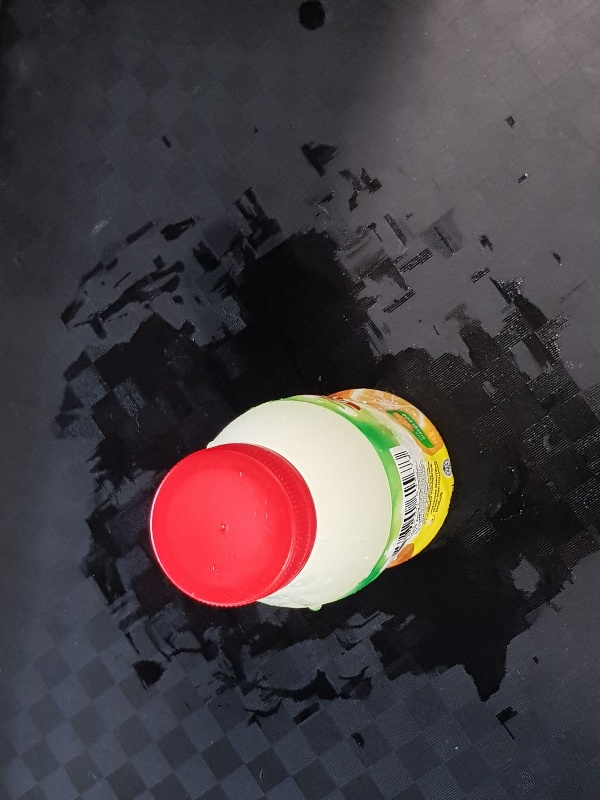Fruit Tree Yuzu Mixed Juice Drink: (145, 386, 458, 613)
